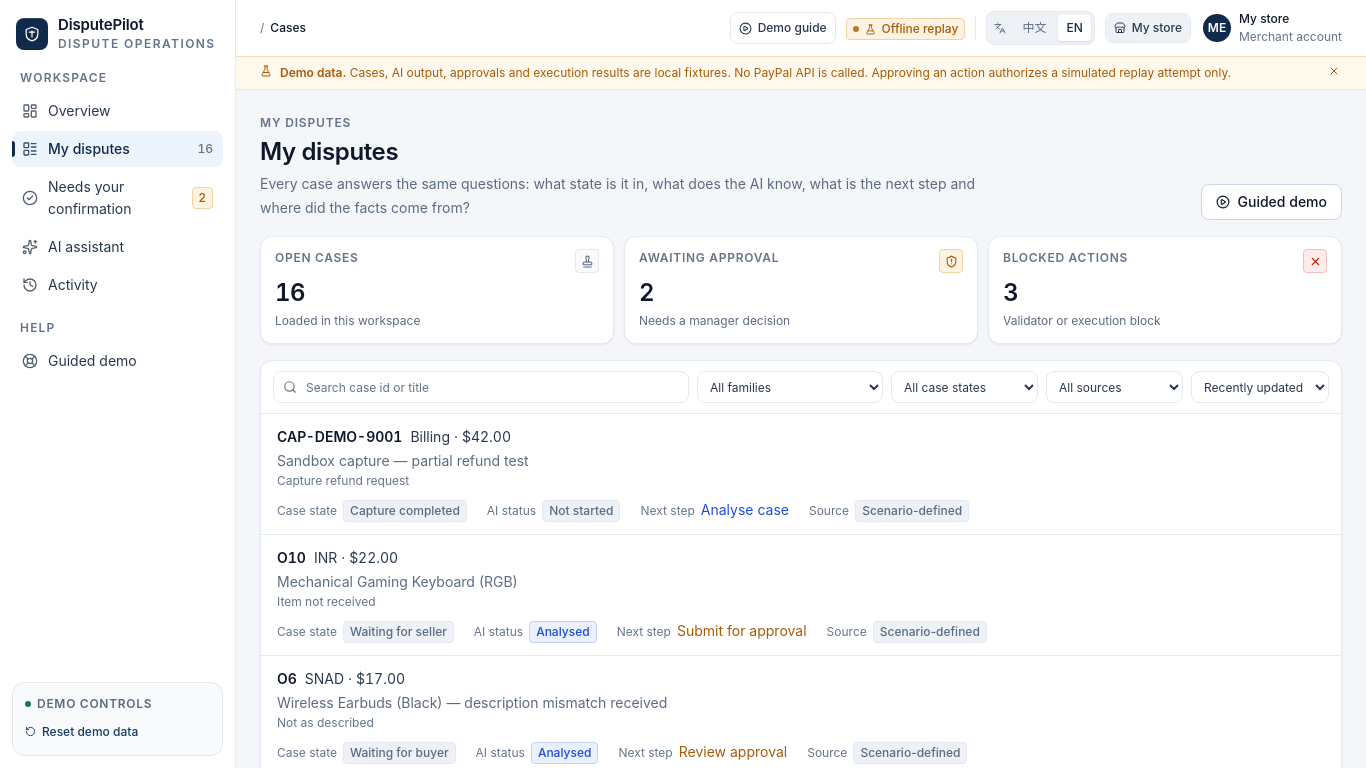
Test: cases — task list › searches by id or title and shows an empty state when nothing matches
Expected: the heading "My disputes" is shown, [260, 137, 398, 166]
In the search field named "Search cases": x=481, y=387 [273, 371, 689, 403], type "laptop sleeve"
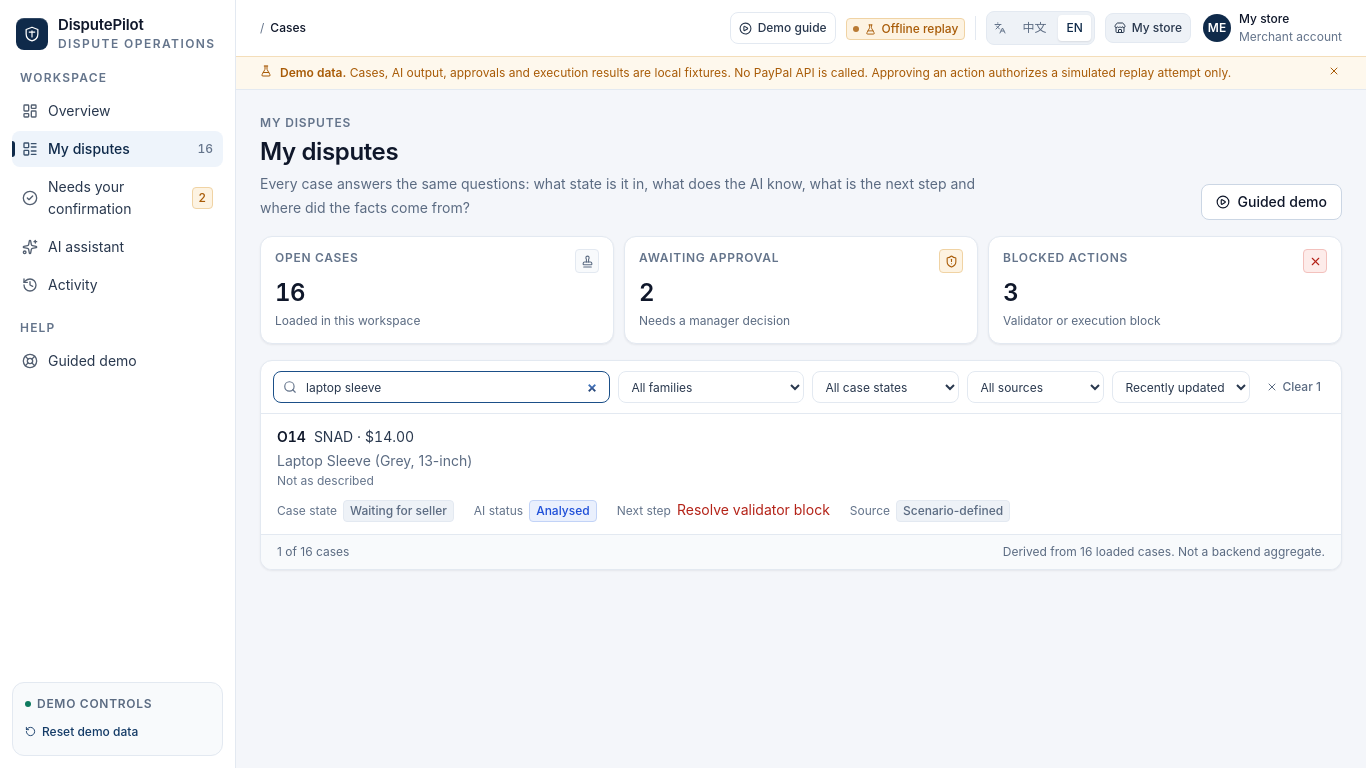
Expected: the text "Laptop Sleeve (Grey, 13-inch)" is shown, [277, 452, 472, 469]
Expected: the link "Mechanical Gaming Keyboard (RGB)" is gone
Clear the search field named "Search cases": x=442, y=387 [273, 371, 610, 403]
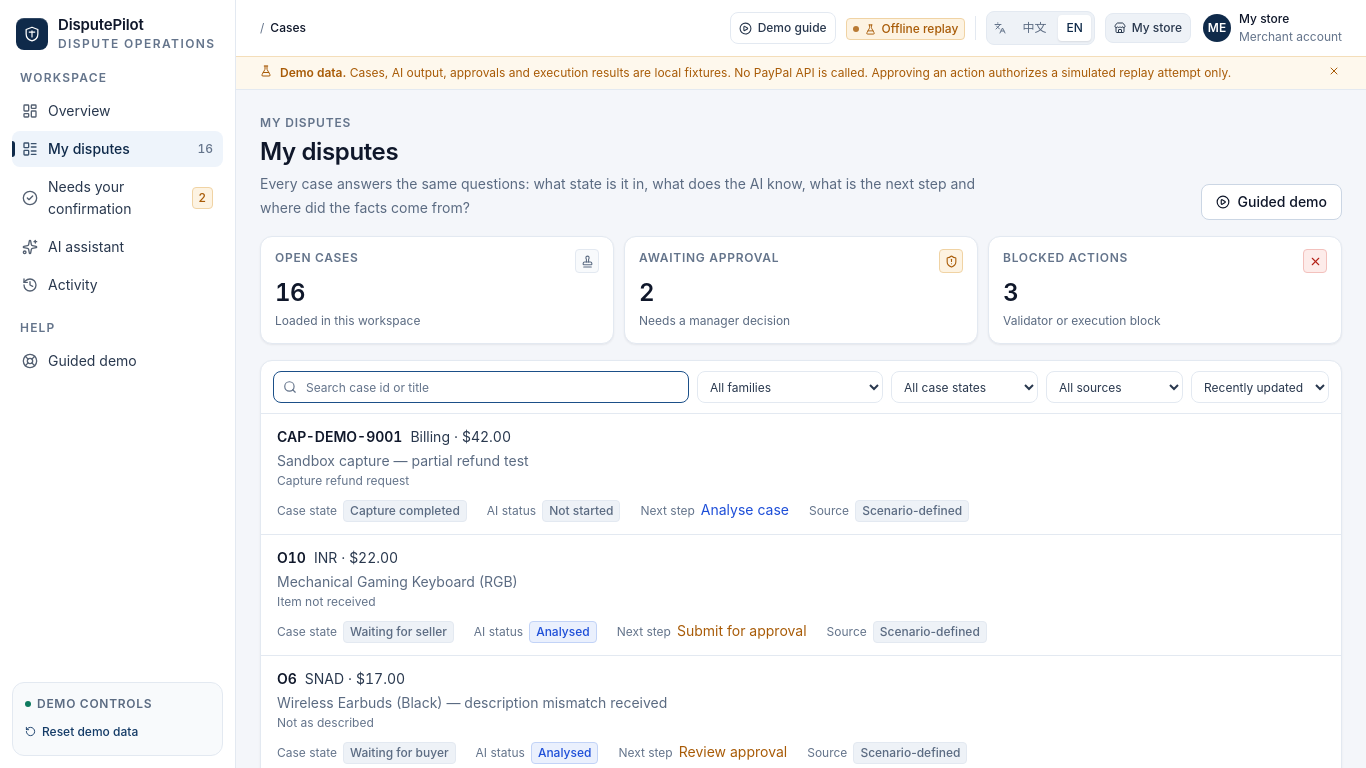
In the search field named "Search cases": x=481, y=387 [273, 371, 689, 403], type "no such case"
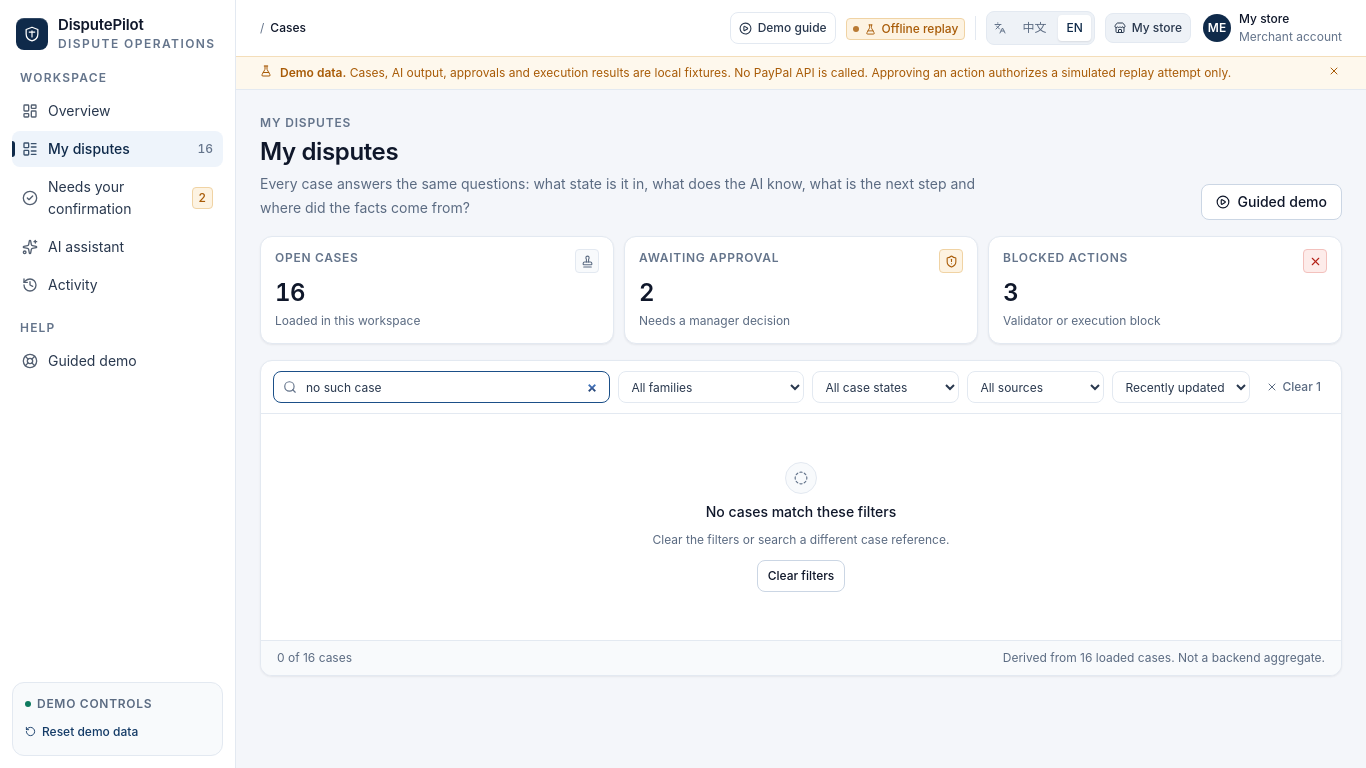
Expected: the text "No cases match these filters" is shown, [706, 500, 896, 524]
Expected: the button "Clear filters" is shown, [757, 560, 845, 592]
